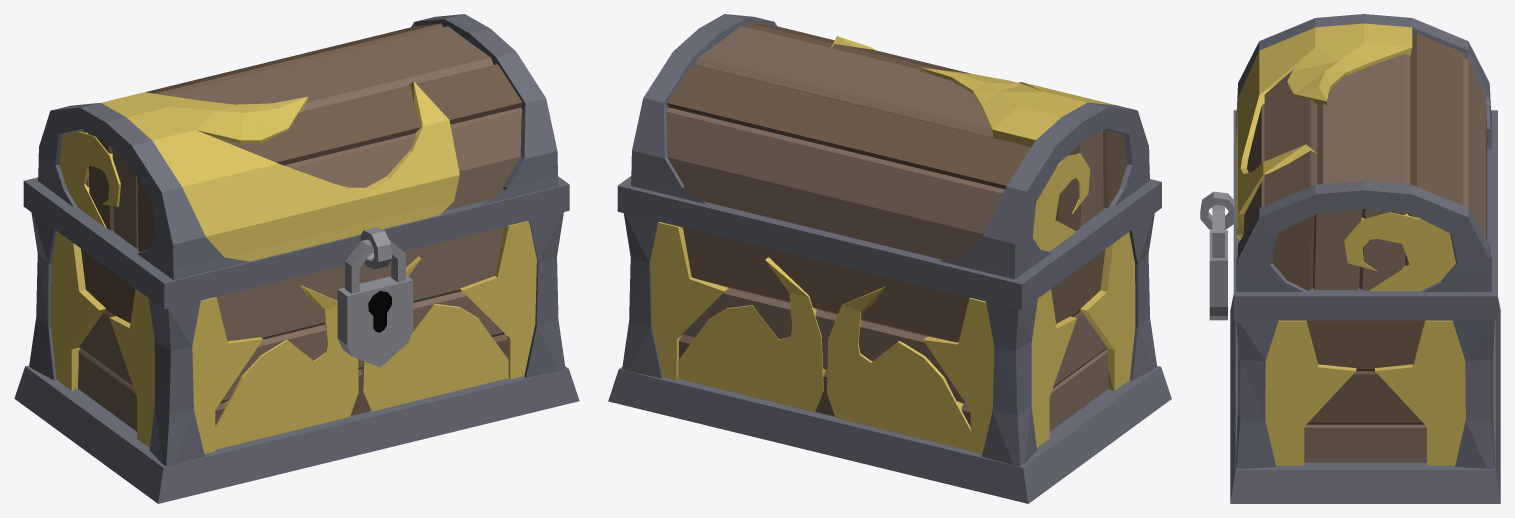
The model's file is _trunk_7.fbx.
The picture shows the model from 3 angles, left to right: view 1: azimuth 30°, elevation 25°; view 2: azimuth 150°, elevation 25°; view 3: azimuth 270°, elevation 25°; orthographic projection. The views are drawn at different scales.
Parts seen in each view (by area): view 1: trunk_7; view 2: trunk_7; view 3: trunk_7.
Boxes of the visible parts, x1,y1,x2,y2 form: trunk_7: [14, 14, 579, 503]; trunk_7: [608, 14, 1171, 503]; trunk_7: [1200, 14, 1500, 503].
Bounding box in the file's own units: 98.8 × 72.78 × 64.92.
